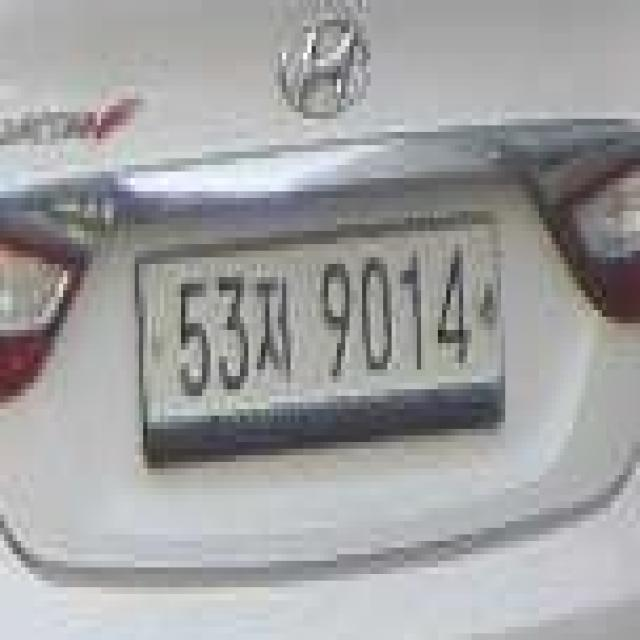0: (358, 237, 400, 396)
1: (400, 231, 429, 389)
3: (210, 258, 252, 422)
4: (429, 224, 476, 390)
5: (172, 264, 215, 402)
9: (320, 251, 358, 389)
jeo: (248, 258, 290, 390)
license_plate: (130, 205, 510, 475)
